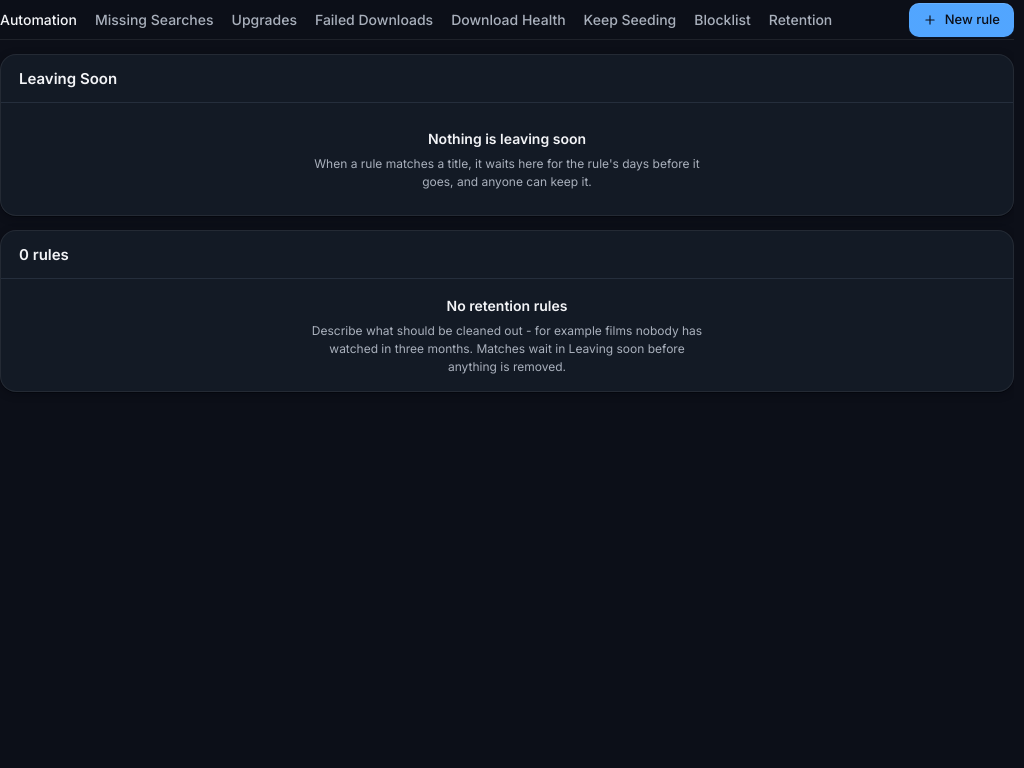
it: the rule drawer › with servers connected, the two switches say that an unreachable server holds everything back, and that the list can stay in Deluno only
This screenshot has width=1024, height=768.
Click the button "New rule": coordinates (961, 20) x1=909 y1=2 x2=1014 y2=36
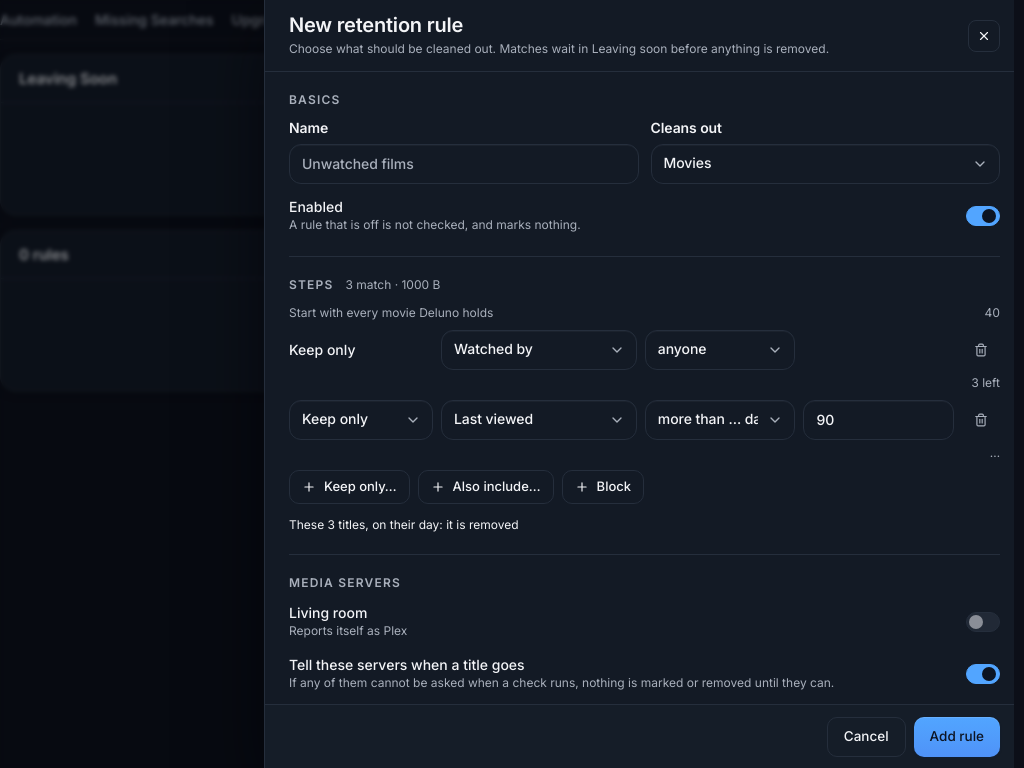
Expected: the text "Tell these servers when a title goes" is shown, x1=289 y1=656 x2=525 y2=673
Expected: the text "If any of them cannot be asked when a check runs, nothing is marked or removed until they can." is shown, x1=289 y1=675 x2=834 y2=690
Expected: the text "Reports itself as Plex" is shown, x1=289 y1=623 x2=407 y2=640
